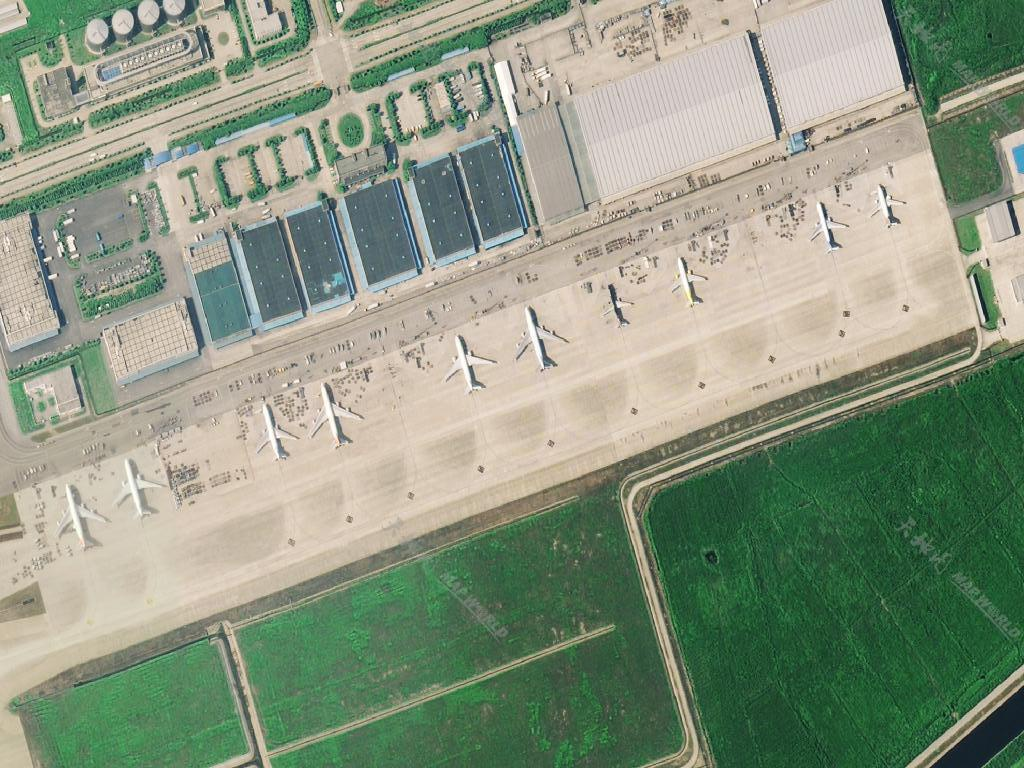aircraft: (51, 479, 112, 557), (513, 302, 572, 375), (307, 381, 366, 451), (110, 457, 167, 523), (443, 331, 498, 398), (253, 400, 302, 466), (807, 199, 853, 259), (668, 253, 711, 314), (868, 183, 910, 230), (600, 281, 638, 331)
